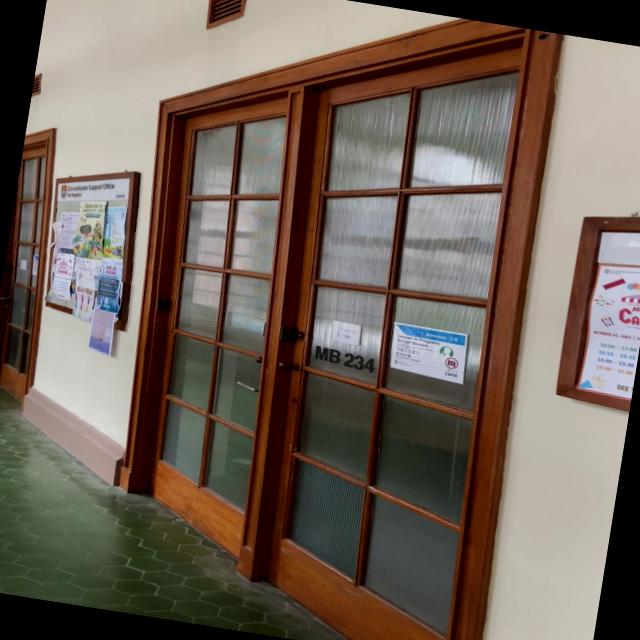room234Window: (307, 341, 383, 378)
